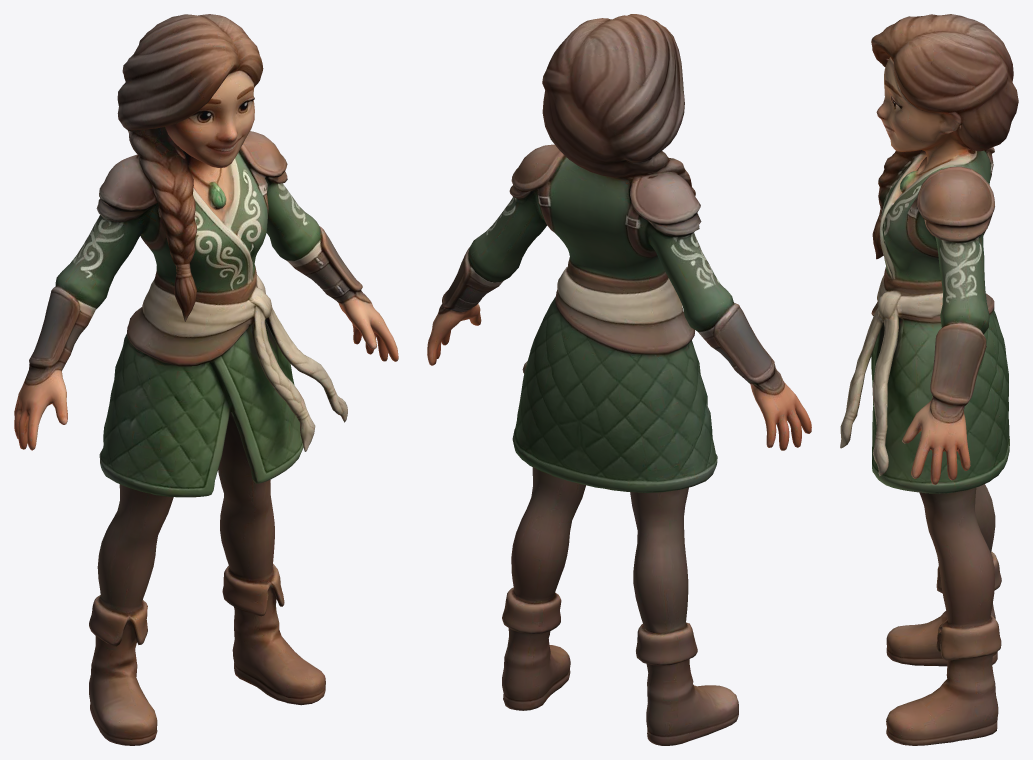
Rendered from winddancer.glb.
3 views of the same model, side by side, from view 1: azimuth 30°, elevation 25°; view 2: azimuth 150°, elevation 25°; view 3: azimuth 270°, elevation 25° (orthographic).
Parts seen in each view (by area): view 1: tripo_node_2e461592-79cd-4fbe-8537-b22ee4218bf9; view 2: tripo_node_2e461592-79cd-4fbe-8537-b22ee4218bf9; view 3: tripo_node_2e461592-79cd-4fbe-8537-b22ee4218bf9.
Boxes of the visible parts, x1,y1,x2,y2 form: tripo_node_2e461592-79cd-4fbe-8537-b22ee4218bf9: (14,14,398,745); tripo_node_2e461592-79cd-4fbe-8537-b22ee4218bf9: (427,14,811,745); tripo_node_2e461592-79cd-4fbe-8537-b22ee4218bf9: (840,14,1018,745).
Bounding box in the file's own units: 0.5521 × 0.9805 × 0.2348.
Materials: 1 (1 with a texture image).
